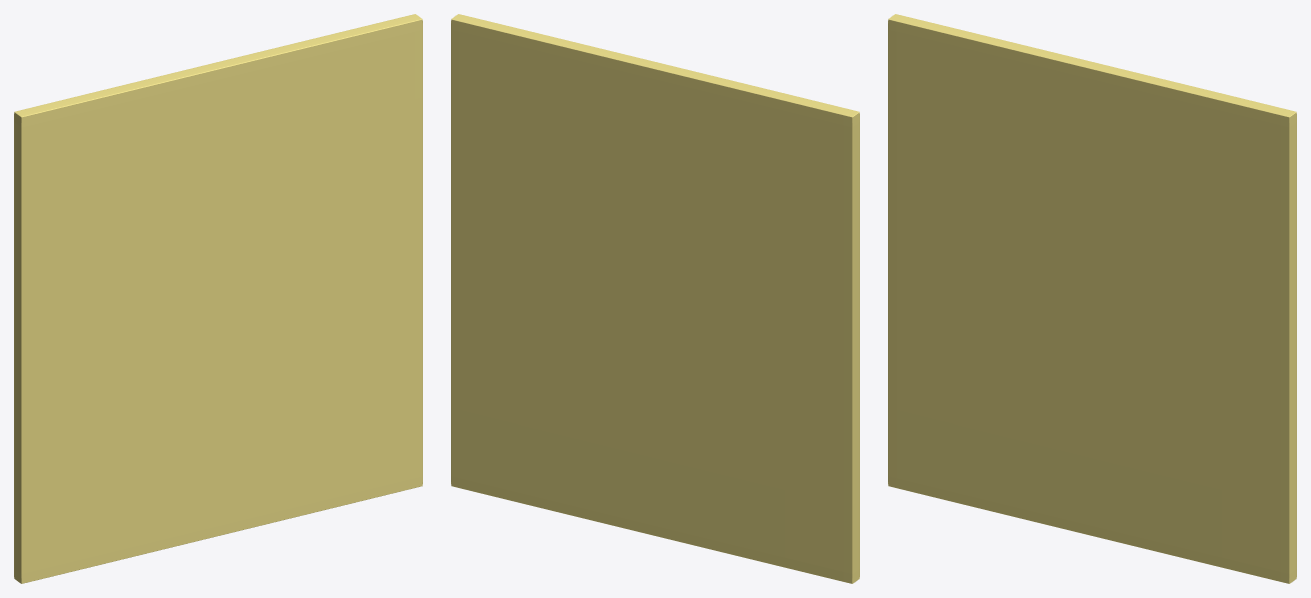
File: Mega_ClimbNet_Hi_205615.fbx
The picture shows the model from 3 angles, left to right: view 1: azimuth 30°, elevation 25°; view 2: azimuth 150°, elevation 25°; view 3: azimuth 330°, elevation 25°; orthographic projection.
Visible parts, largest first — view 1: Cube; view 2: Cube; view 3: Cube.
Part boxes in pixels (x1,y1,x2,y2): Cube: (14, 14, 422, 583); Cube: (451, 14, 859, 583); Cube: (888, 14, 1296, 583).
Size of the model in its own units: 4.5 by 5 by 0.1498.
